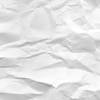crumpled paper: (1, 2, 100, 98)
